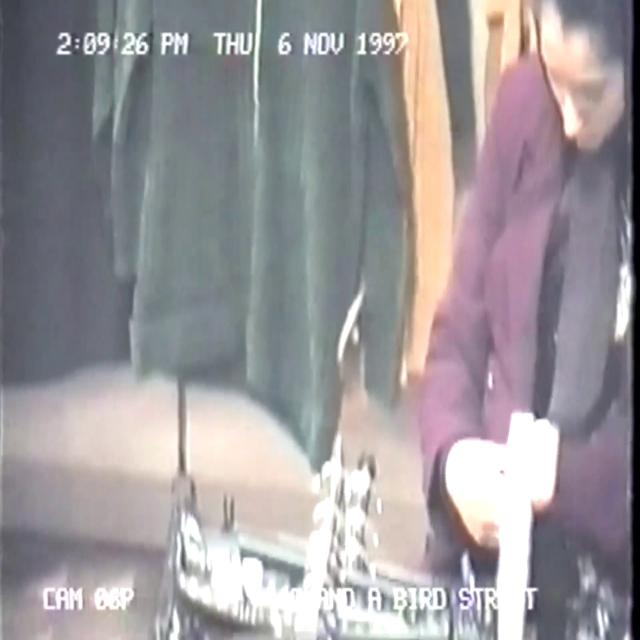shoplifting: (333, 4, 631, 640)
